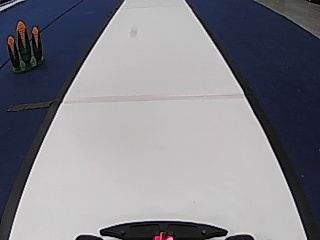corn: (6, 19, 46, 72)
